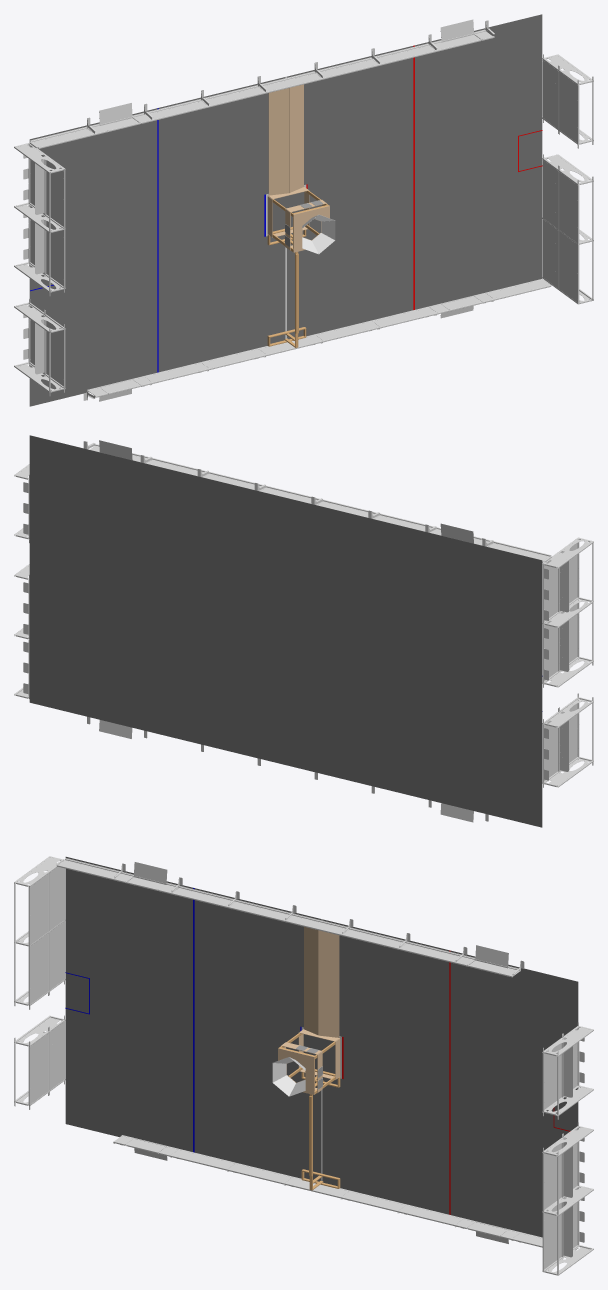
The picture shows the model from 3 angles, top to bottom: view 1: azimuth 30°, elevation 25°; view 2: azimuth 150°, elevation 25°; view 3: azimuth 330°, elevation 25°; orthographic projection.
Visible parts, largest first — view 1: g6, g8, g2, g0, g3, g4, g7; view 2: g6, g8; view 3: g6, g8, g2, g0, g3, g4, g7.
Boxes of the visible parts, left/top/right/bottom form: g6: left=29, top=14, right=542, bottom=406; g8: left=14, top=19, right=593, bottom=401; g2: left=267, top=84, right=329, bottom=252; g0: left=267, top=190, right=329, bottom=347; g3: left=266, top=76, right=335, bottom=338; g4: left=306, top=45, right=542, bottom=309; g7: left=30, top=108, right=265, bottom=372; g6: left=29, top=435, right=542, bottom=827; g8: left=14, top=440, right=593, bottom=822; g6: left=65, top=856, right=578, bottom=1237; g8: left=14, top=856, right=593, bottom=1275; g2: left=278, top=927, right=340, bottom=1094; g0: left=278, top=1033, right=340, bottom=1190; g3: left=272, top=919, right=341, bottom=1180; g4: left=342, top=950, right=570, bottom=1214; g7: left=65, top=888, right=301, bottom=1152.
Bounding box in the file's own units: 17.54 × 8.96 × 2.
